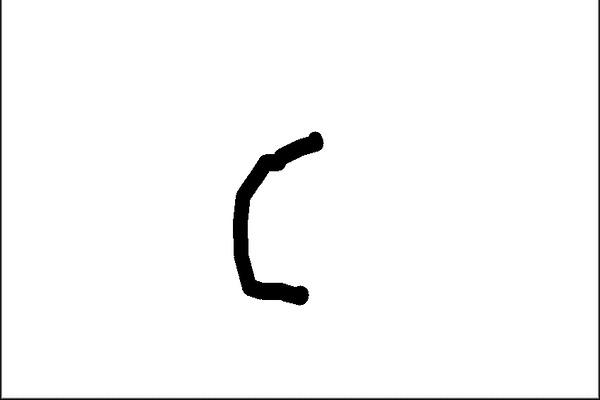C: (222, 125, 338, 311)
